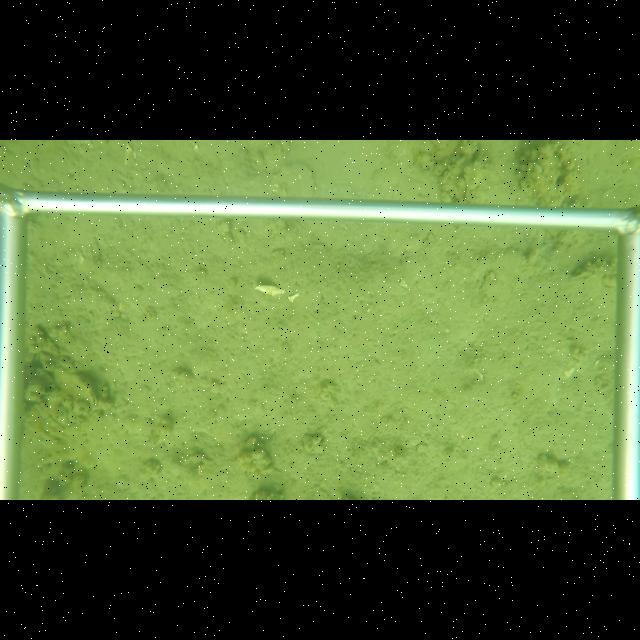Oyster-Closed: (51, 366, 99, 407), (272, 163, 315, 195)
